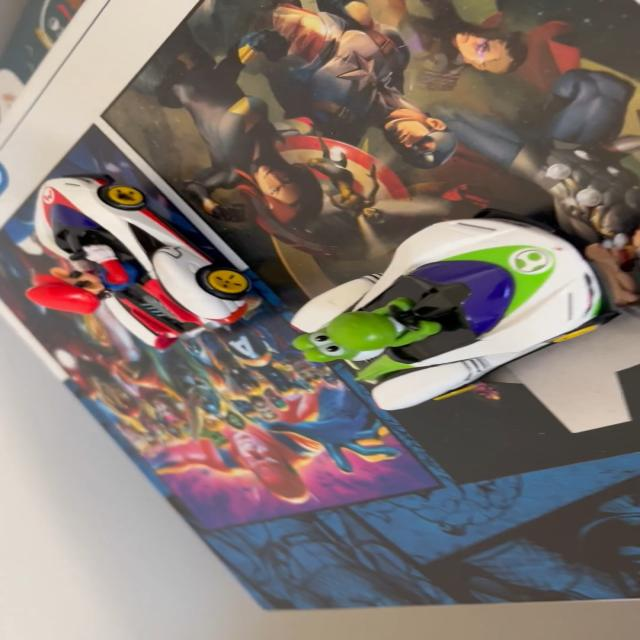mario: (12, 174, 270, 356)
yoshi: (277, 219, 630, 432)
